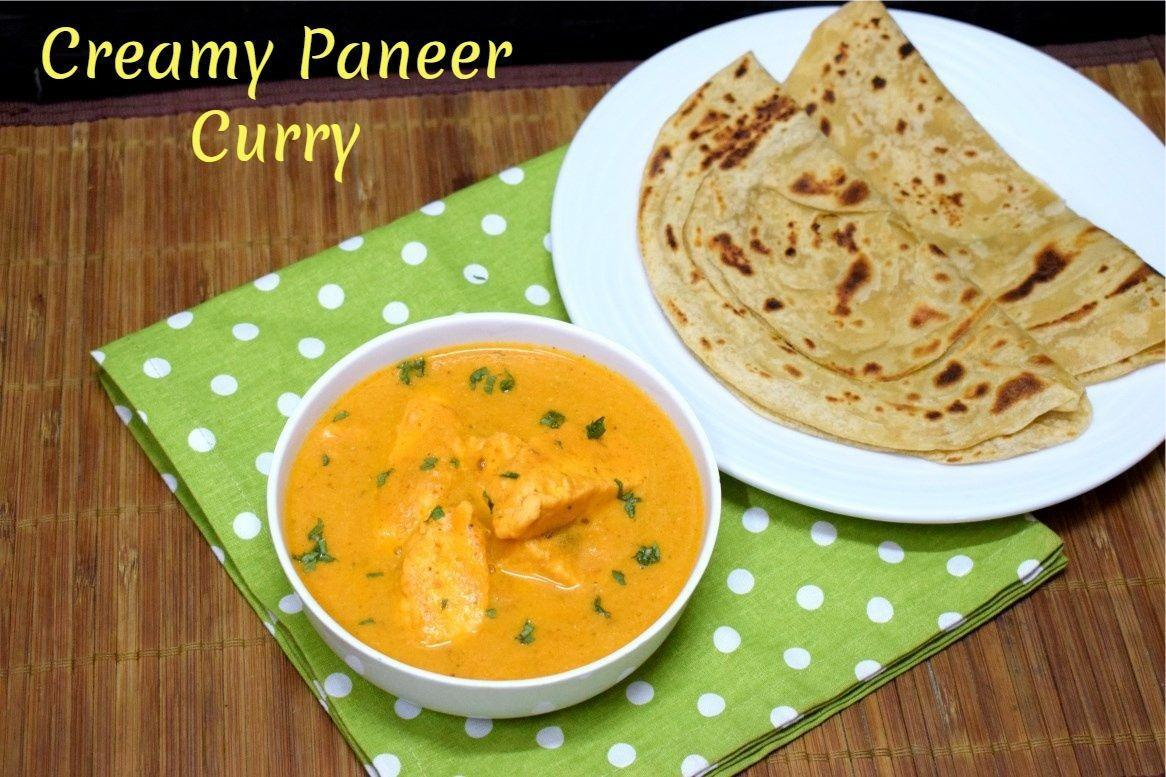paneer: (353, 413, 639, 631)
